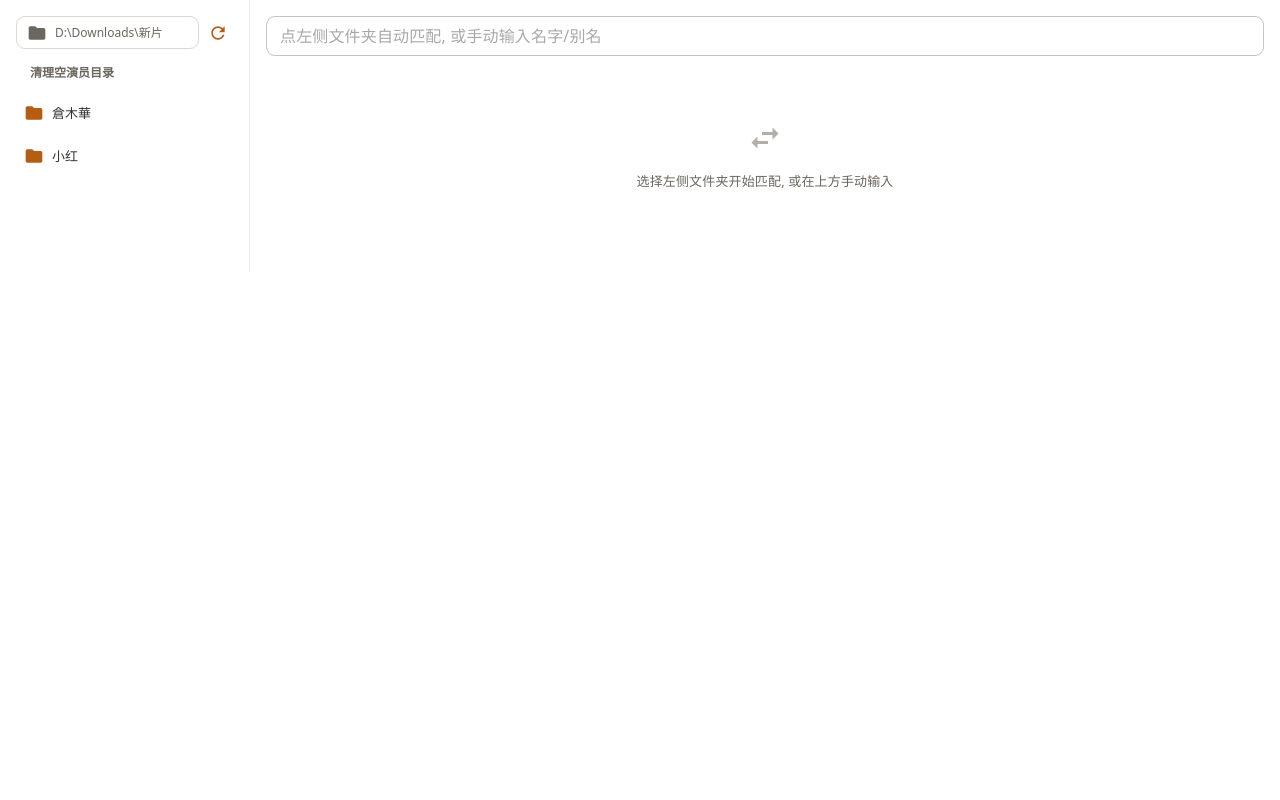
Test case: ArchivePage › pair disabled without a left selection and on missing cards
Type "倉木華" into the field named "匹配搜索" at coordinates (765, 36), box [266, 16, 1264, 56]
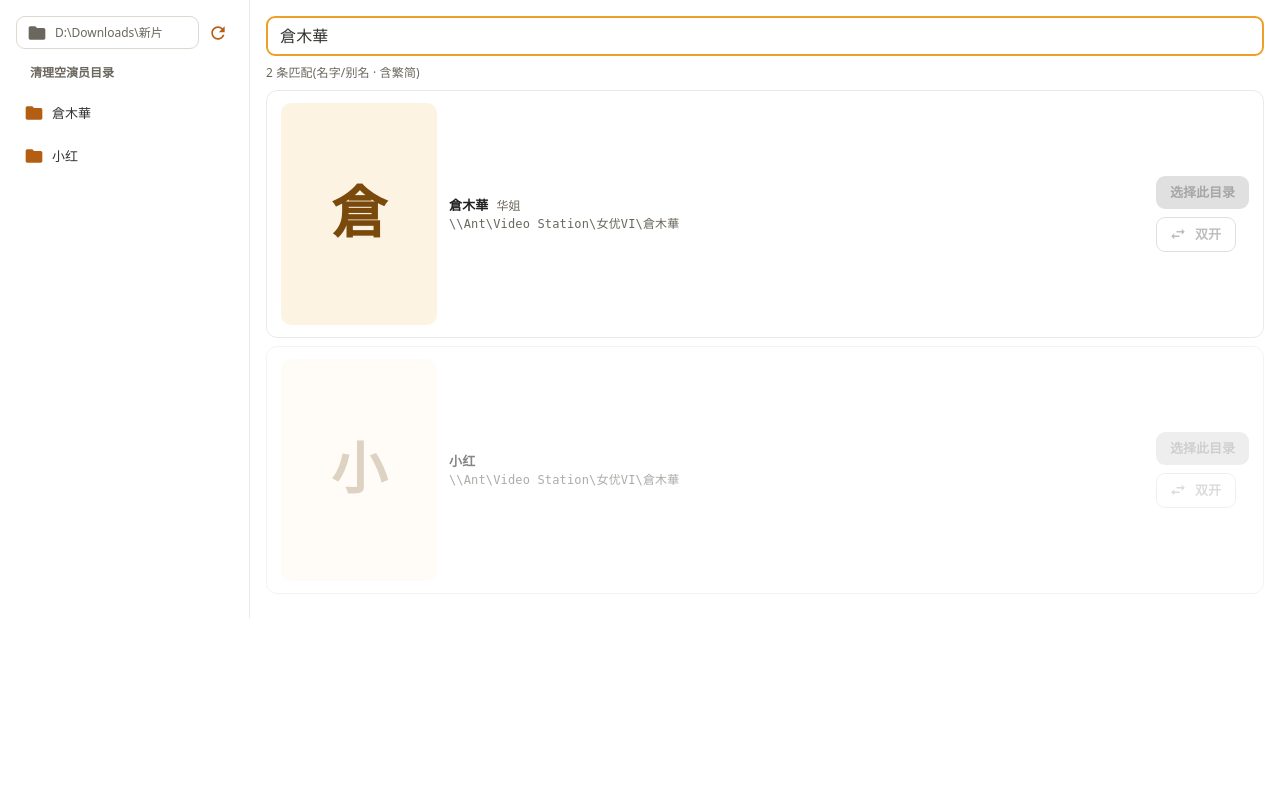
Check: the 1st button "双开" is disabled, box [1156, 217, 1236, 252]
Check: the 2nd button "双开" is disabled, box [1156, 473, 1236, 508]
Click the button "小红" at coordinates (124, 156), box [16, 139, 233, 174]
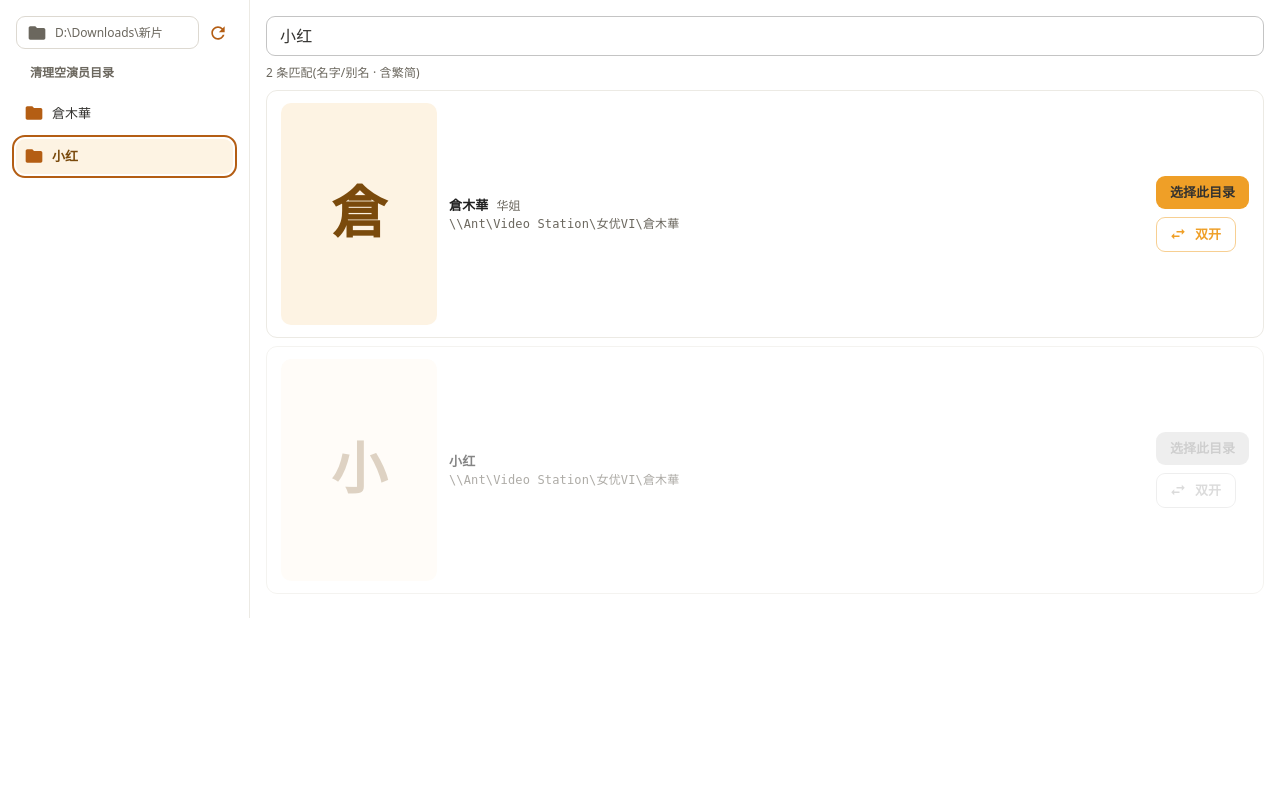
Check: the 2nd button "双开" is disabled, box [1156, 473, 1236, 508]
Check: the 1st button "双开" is enabled, box [1156, 217, 1236, 252]
